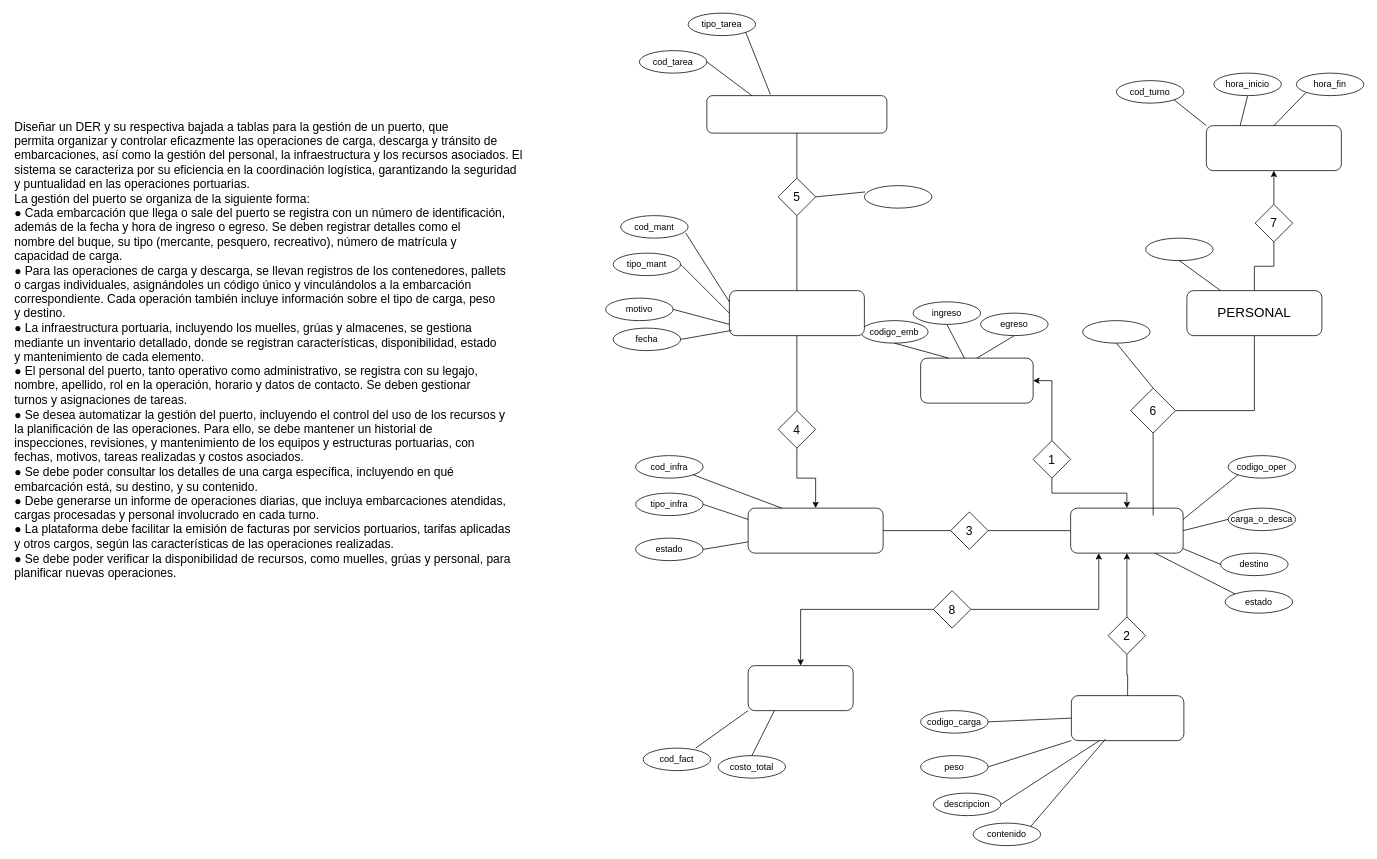
Image size: 1377x859. Some labels were removed from this diagram. Here are the shapes that lost their labels. From the top down, the centre of each, then its label:
At [796,114]: "TAREA_MANTENIMIENTO".
At [1273,148]: "TURNO".
At [898,196]: "costo".
At [1179,249]: "legajo*".
At [796,313]: "MANTENIMIENTO".
At [1116,331]: "rol".
At [976,380]: "EMBARCACION".
At [815,530]: "INFRAESTRUCTURA".
At [1126,530]: "OPERACION".
At [800,688]: "FACTURA".
At [1127,718]: "CARGA".
